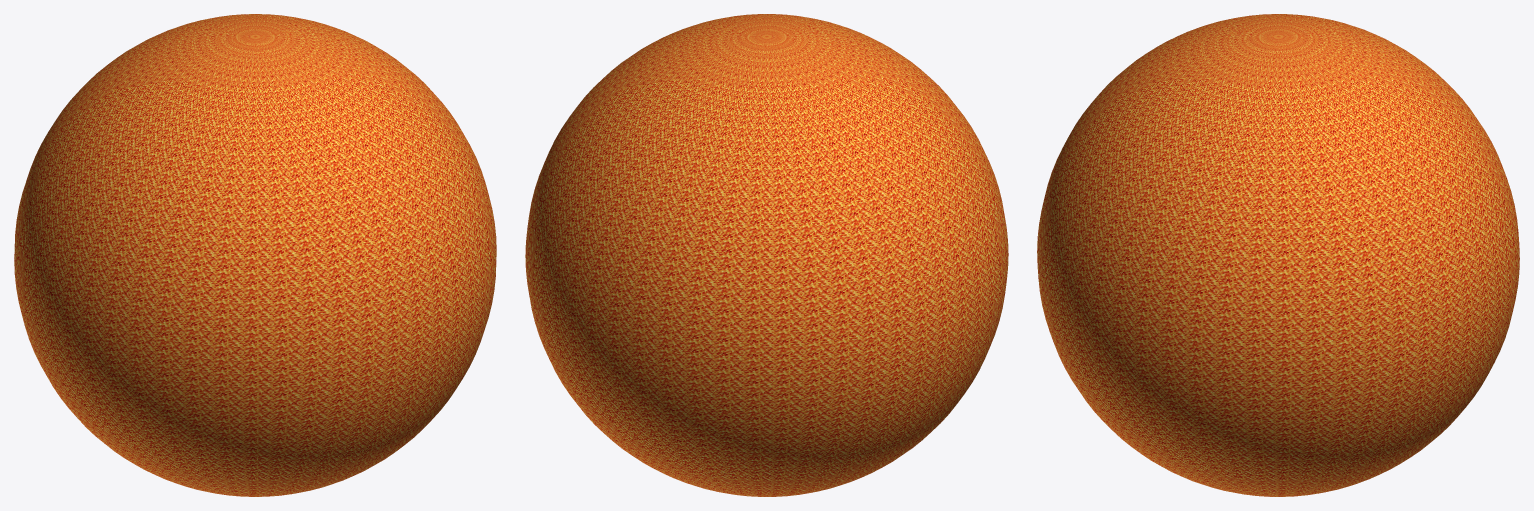
Rendered from sun_.obj.
3 views of the same model, side by side, from view 1: azimuth 30°, elevation 25°; view 2: azimuth 150°, elevation 25°; view 3: azimuth 270°, elevation 25° (orthographic).
Visible parts, largest first — view 1: sun1; view 2: sun1; view 3: sun1.
Part boxes in pixels (x1,y1,x2,y2): sun1: [14, 14, 496, 496]; sun1: [525, 14, 1008, 496]; sun1: [1037, 14, 1519, 496].
Size of the model in its own units: 7.94 by 7.94 by 7.94.
